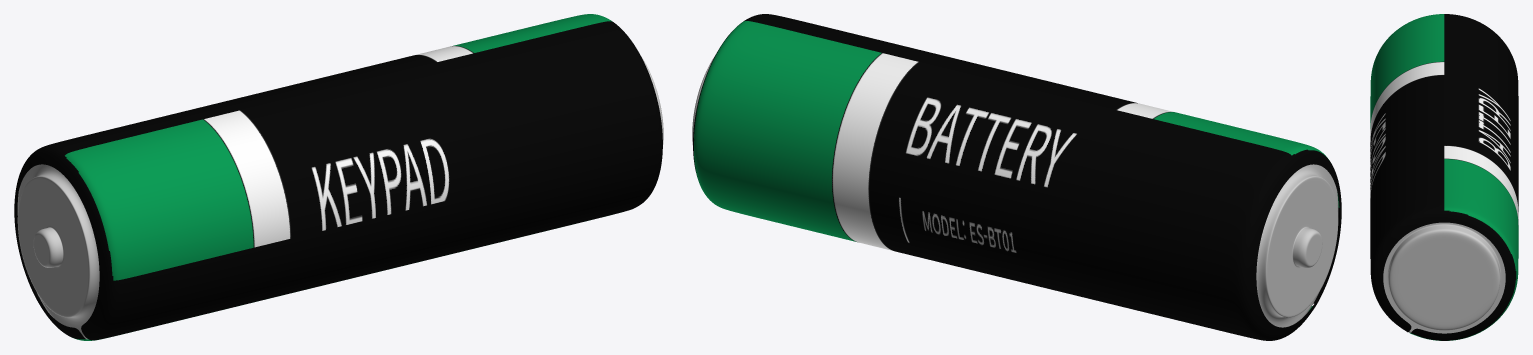
File: burn_battery.fbx
3 renders of one model, left to right at view 1: azimuth 30°, elevation 25°; view 2: azimuth 150°, elevation 25°; view 3: azimuth 270°, elevation 25°, orthographic. The views are drawn at different scales.
Parts seen in each view (by area): view 1: BurntBattery_01; view 2: BurntBattery_01; view 3: BurntBattery_01.
Boxes of the visible parts, left/top/right/bottom form: BurntBattery_01: left=14, top=14, right=663, bottom=340; BurntBattery_01: left=692, top=14, right=1341, bottom=340; BurntBattery_01: left=1370, top=14, right=1518, bottom=340.
Size of the model in its own units: 1126 by 337 by 335.
